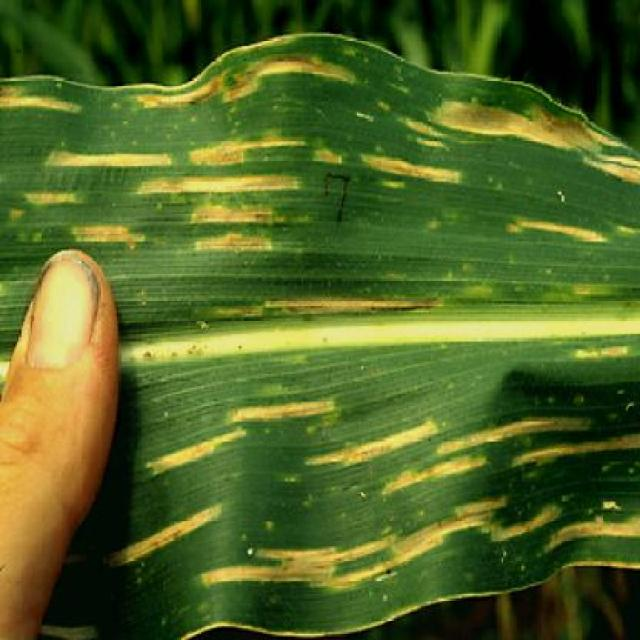Corn_Grey_Leaf_Spot: (135, 29, 640, 629)
